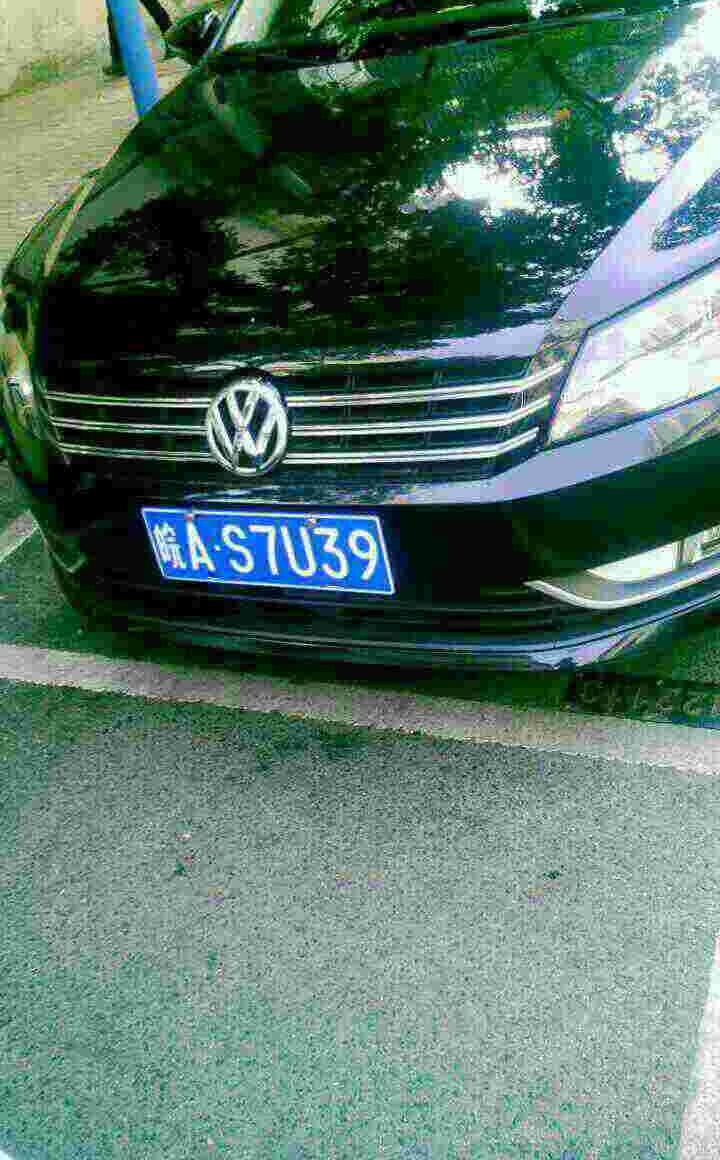license_plate: (144, 502, 396, 605)
